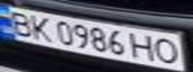0: (51, 18, 75, 47)
6: (106, 28, 130, 56)
8: (87, 25, 109, 53)
9: (69, 21, 90, 51)
B: (3, 8, 36, 37)
H: (130, 32, 160, 62)
K: (24, 12, 54, 43)
O: (151, 36, 184, 65)
